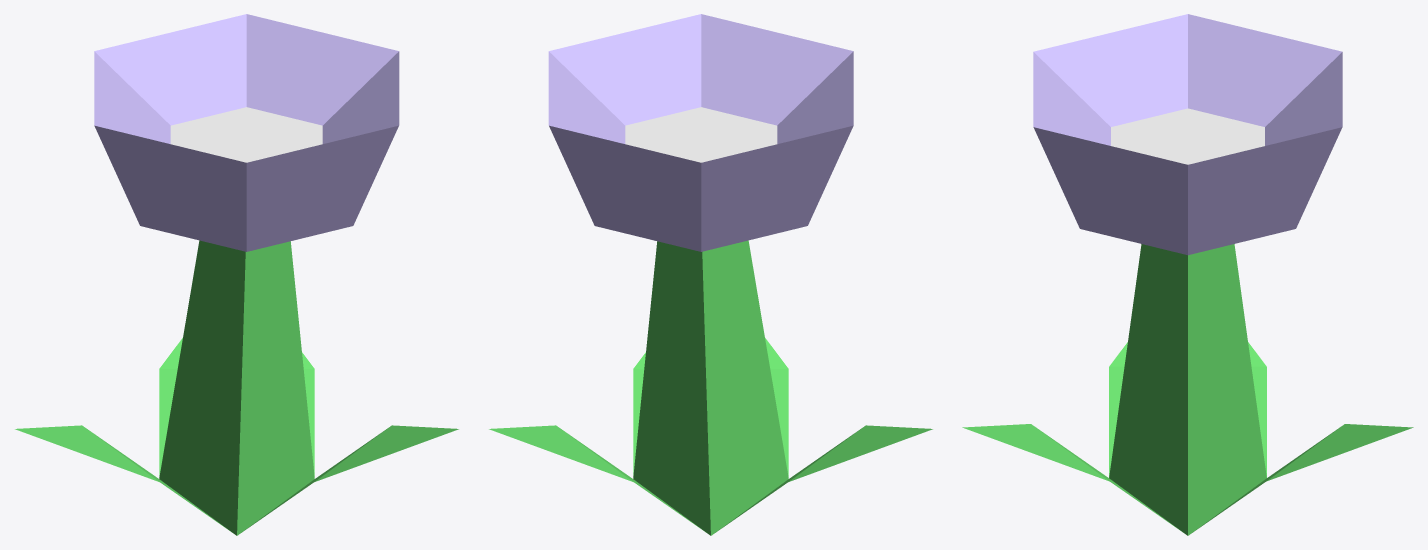
Rendered from n_flower_purpleC.glb.
3 renders of one model, left to right at view 1: azimuth 30°, elevation 25°; view 2: azimuth 150°, elevation 25°; view 3: azimuth 270°, elevation 25°, orthographic.
Visible parts, largest first — view 1: flower_purpleC; view 2: flower_purpleC; view 3: flower_purpleC.
Boxes of the visible parts, x1,y1,x2,y2 form: flower_purpleC: [15, 14, 458, 535]; flower_purpleC: [489, 14, 932, 535]; flower_purpleC: [962, 14, 1413, 535].
Bounding box in the file's own units: 0.4453 × 0.45 × 0.4464.
